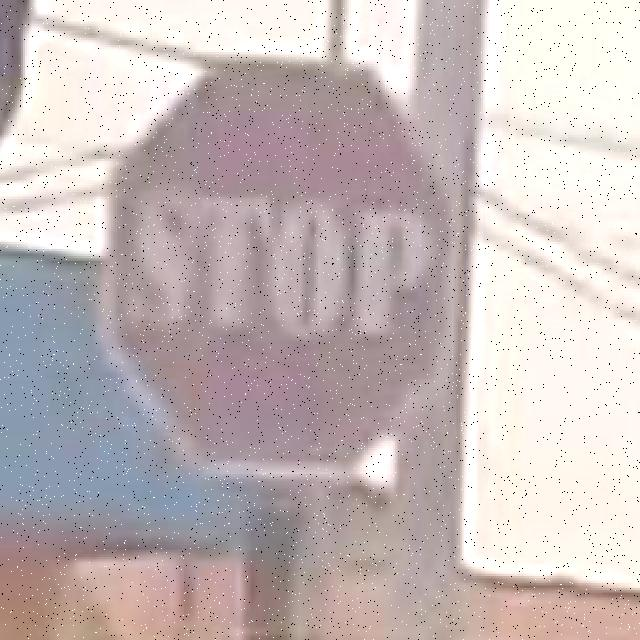Stop: (128, 74, 452, 470)
